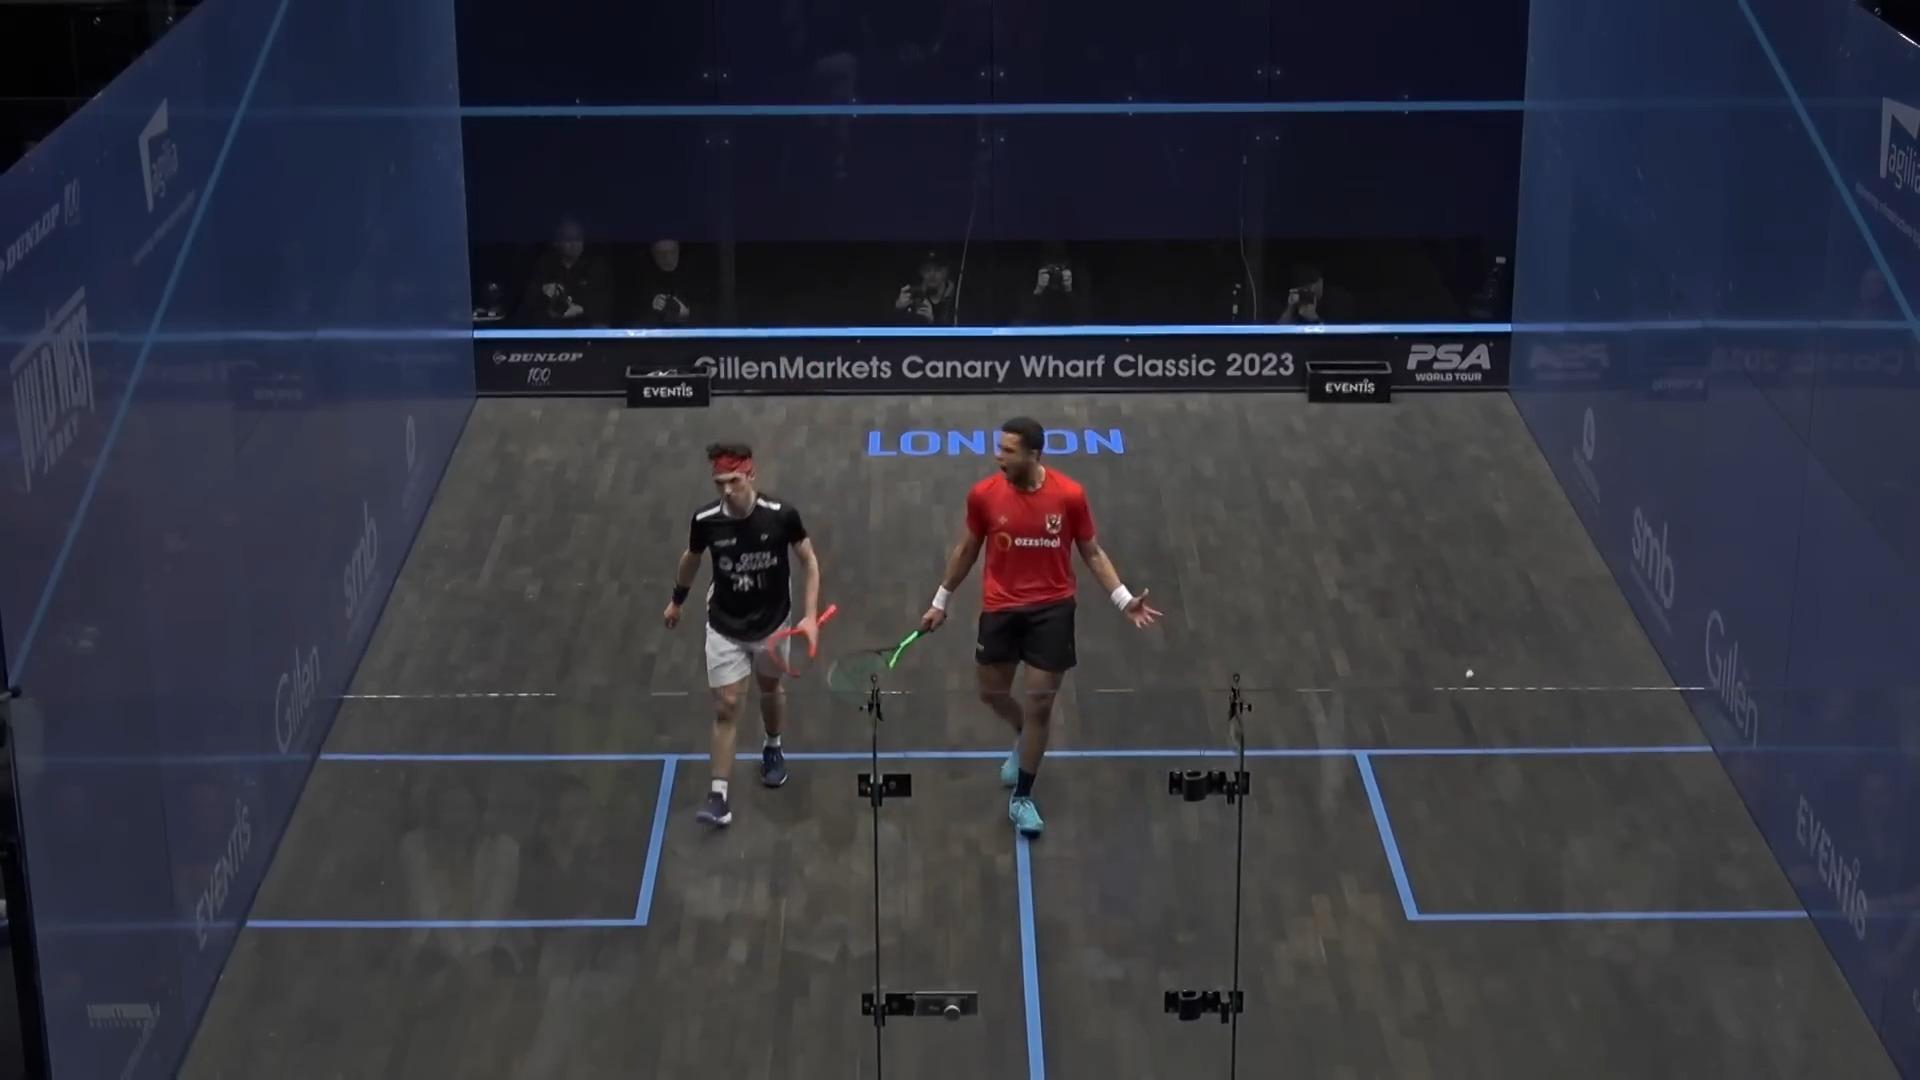Racket: (825, 617, 943, 704), (766, 596, 848, 679)
